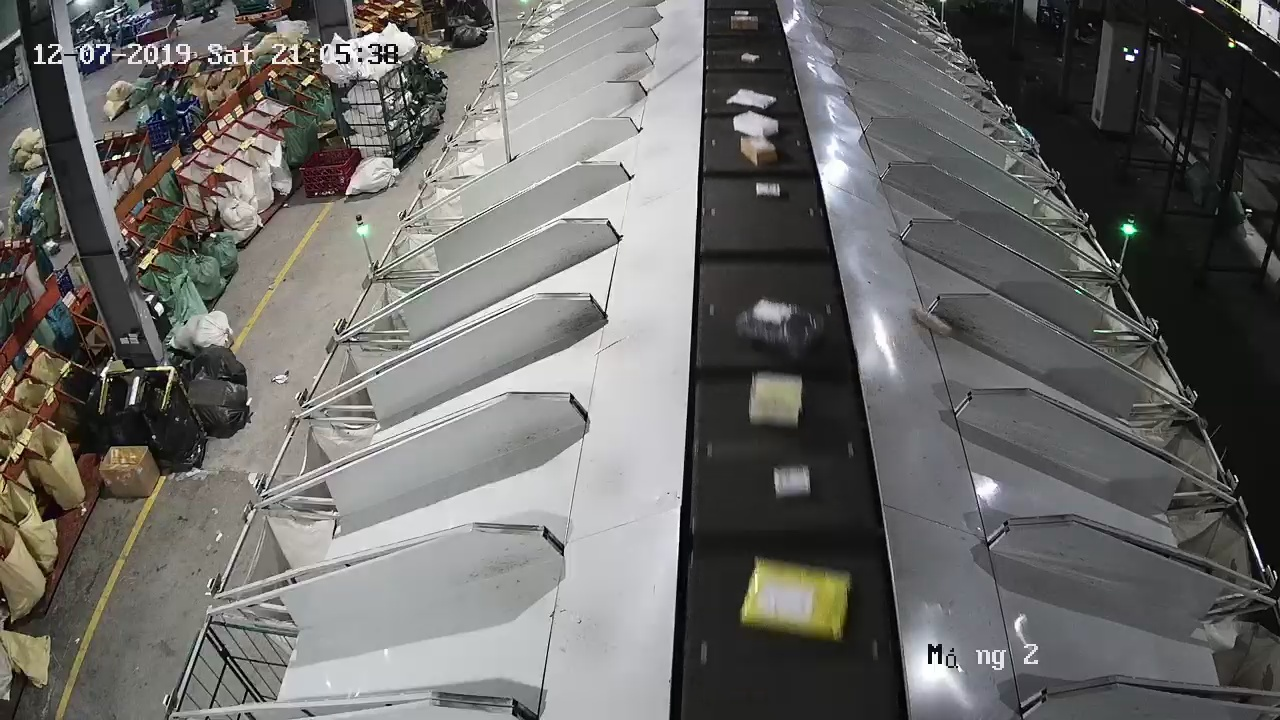parcel: (913, 305, 953, 336)
